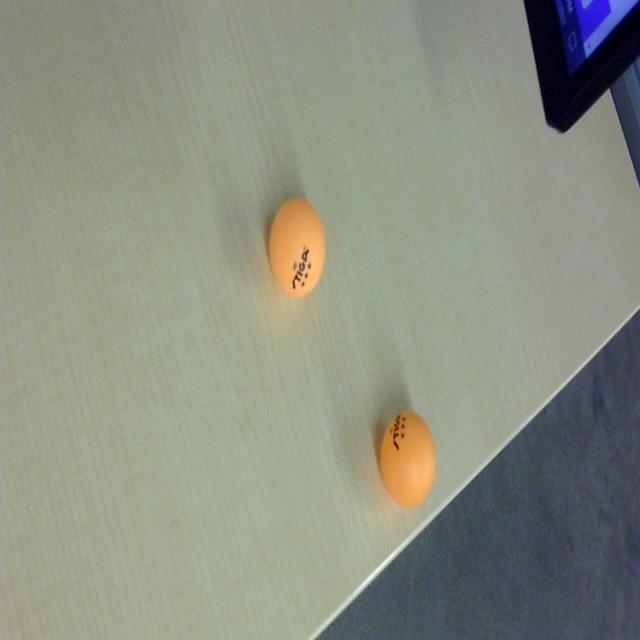ball: (266, 197, 330, 301), (378, 410, 438, 510)
